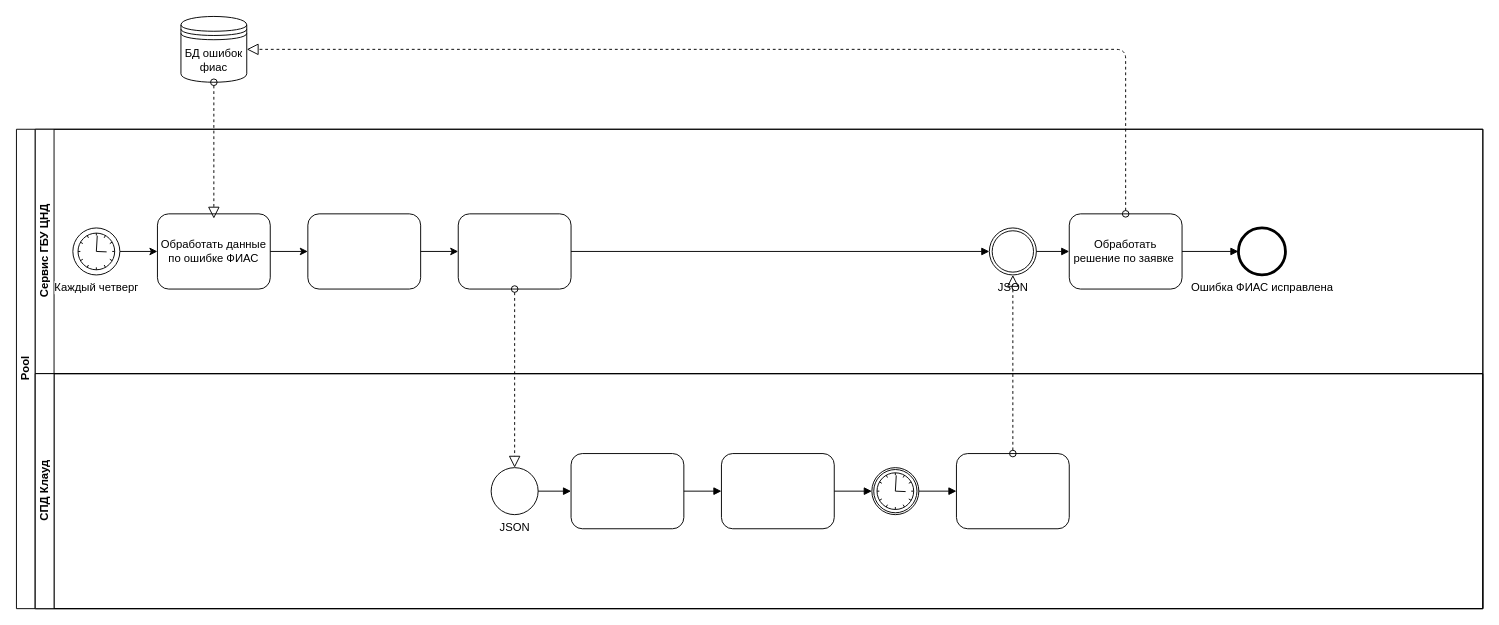
Image size: 1499x625. Some labels were removed from this diagram. Each missing label, with the centre of its shape:
14 дней: the point at 895,491
Обработать заявку: the point at 777,491
Отправить в СПД Клауд: the point at 514,251
Отправить решение по заявке в сервис ГБУ ЦНД: the point at 1012,491
Преобразовать данные в JSON: the point at 364,251
Создать заявку на исправление заявки: the point at 627,491
